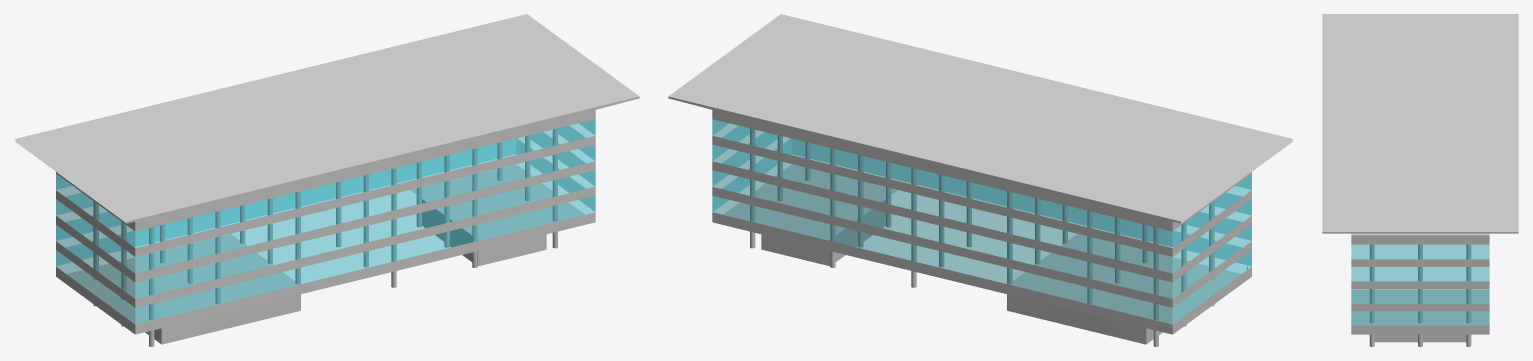
The picture shows the model from 3 angles, left to right: view 1: azimuth 30°, elevation 25°; view 2: azimuth 150°, elevation 25°; view 3: azimuth 270°, elevation 25°; orthographic projection. The views are drawn at different scales.
Parts seen in each view (by area): view 1: Mesh2 Model, Mesh11 Model, Mesh13 Model, Mesh14 Model, Mesh12 Model; view 2: Mesh2 Model, Mesh4 Model, Mesh5 Model, Mesh3 Model, Mesh6 Model; view 3: Mesh2 Model, Mesh3 Model, Mesh14 Model, Mesh10 Model.
Part boxes in pixels (x1=…): Mesh2 Model: x1=14, y1=14, x2=639, y2=344; Mesh11 Model: x1=391, y1=168, x2=396, y2=287; Mesh13 Model: x1=472, y1=148, x2=477, y2=267; Mesh14 Model: x1=552, y1=128, x2=557, y2=248; Mesh12 Model: x1=149, y1=227, x2=154, y2=346; Mesh2 Model: x1=668, y1=14, x2=1293, y2=344; Mesh4 Model: x1=830, y1=148, x2=835, y2=267; Mesh5 Model: x1=911, y1=168, x2=916, y2=287; Mesh3 Model: x1=750, y1=128, x2=755, y2=248; Mesh6 Model: x1=1153, y1=227, x2=1158, y2=346; Mesh2 Model: x1=1322, y1=14, x2=1518, y2=342; Mesh3 Model: x1=1466, y1=244, x2=1471, y2=346; Mesh14 Model: x1=1369, y1=244, x2=1374, y2=346; Mesh10 Model: x1=1418, y1=244, x2=1422, y2=346.
Size of the model in its own units: 80.06 by 23.6 by 30.46.
